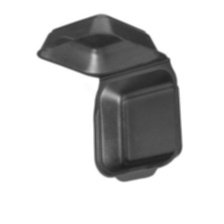foam_box: (33, 10, 188, 187)
